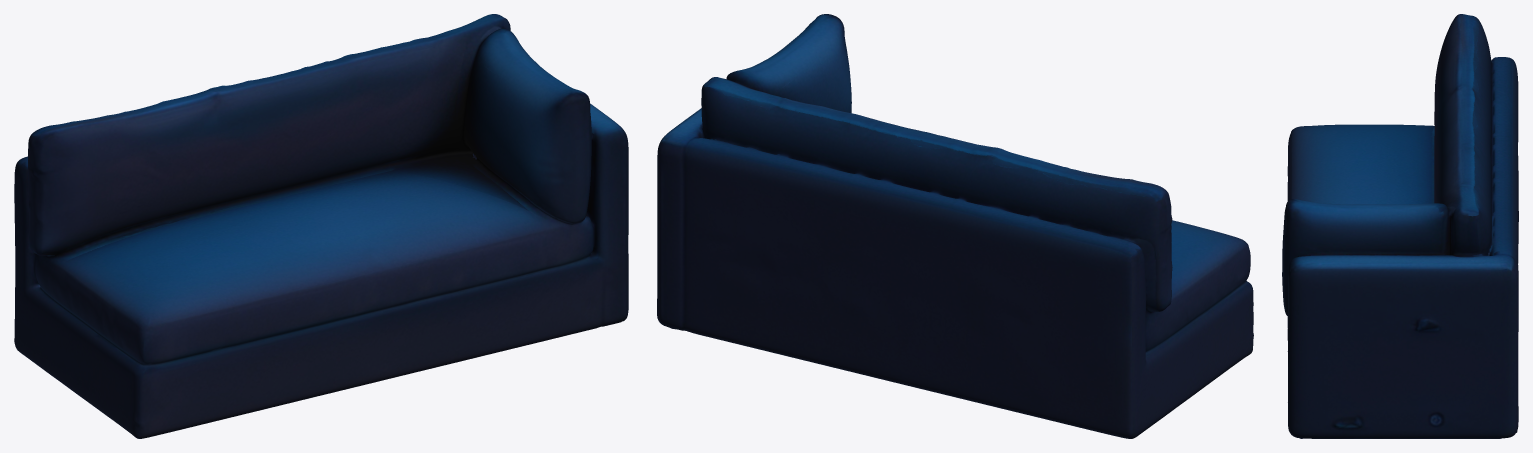
File: product-bohemian-tatum-modular-right-arm-sofa-11.glb
3 renders of one model, left to right at view 1: azimuth 30°, elevation 25°; view 2: azimuth 150°, elevation 25°; view 3: azimuth 270°, elevation 25°, orthographic. The views are drawn at different scales.
Parts seen in each view (by area): view 1: geometry_0; view 2: geometry_0; view 3: geometry_0.
Boxes of the visible parts, bbox=[...] form: geometry_0: bbox=[14, 14, 628, 438]; geometry_0: bbox=[657, 14, 1253, 438]; geometry_0: bbox=[1282, 14, 1518, 438].
Bounding box in the file's own units: 1.98 × 0.9142 × 0.9004.
Materials: 1 (1 with a texture image).
